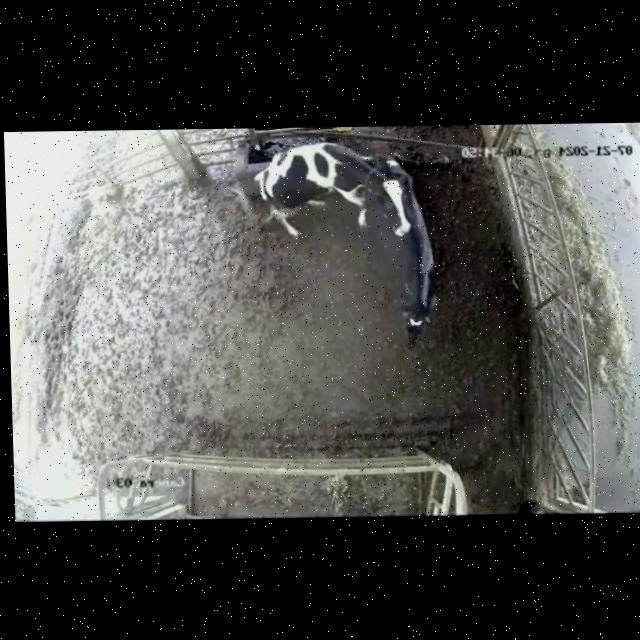propping: (348, 154, 421, 255)
stand: (366, 145, 445, 365)
